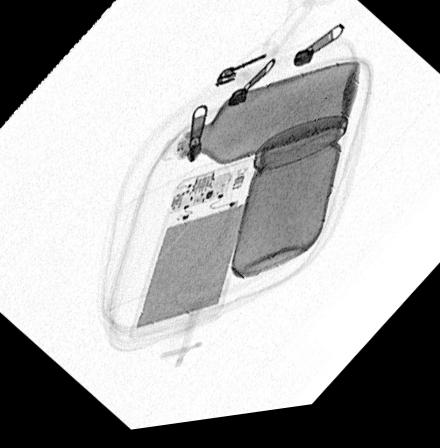Powerbank: (127, 165, 268, 342)
